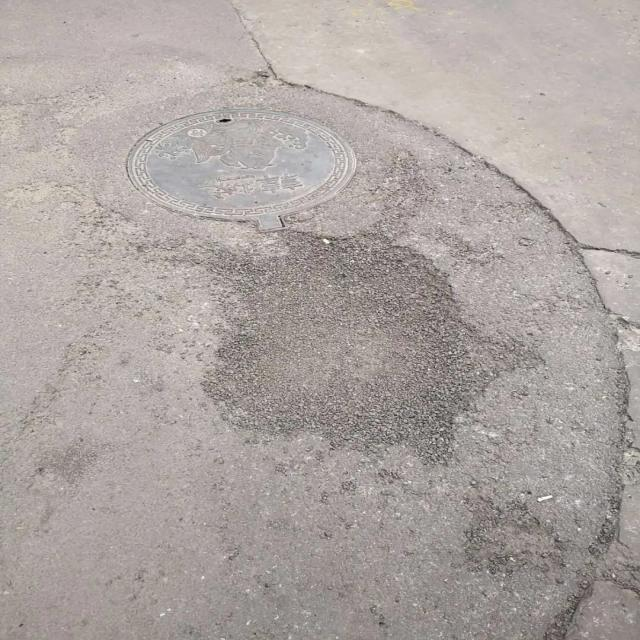Pothole: (199, 233, 485, 465)
